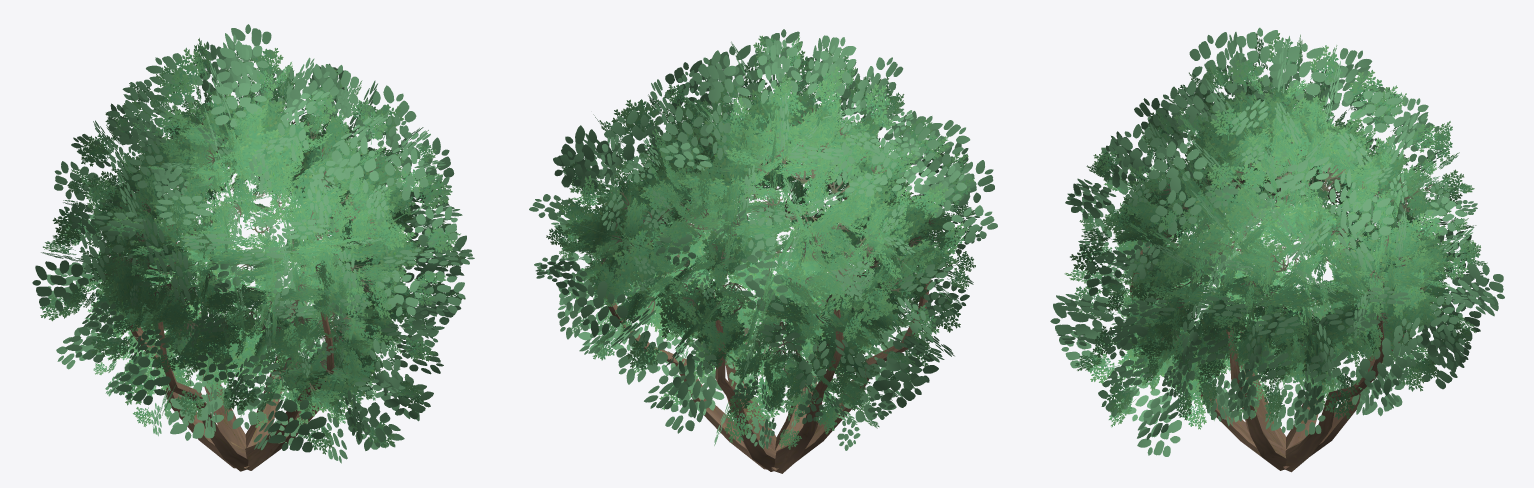
The model's file is Scene_guanmu_007.FBX.
3 views of the same model, side by side, from view 1: azimuth 30°, elevation 25°; view 2: azimuth 150°, elevation 25°; view 3: azimuth 270°, elevation 25° (orthographic).
Visible parts, largest first — view 1: Scene_guanmu_007_LOD0; view 2: Scene_guanmu_007_LOD0; view 3: Scene_guanmu_007_LOD0.
Part boxes in pixels (x1,y1,x2,y2): Scene_guanmu_007_LOD0: [32, 24, 474, 471]; Scene_guanmu_007_LOD0: [529, 29, 997, 473]; Scene_guanmu_007_LOD0: [1050, 27, 1504, 472].
Size of what is drawn, in the model's own units: 152 by 151 by 150.
